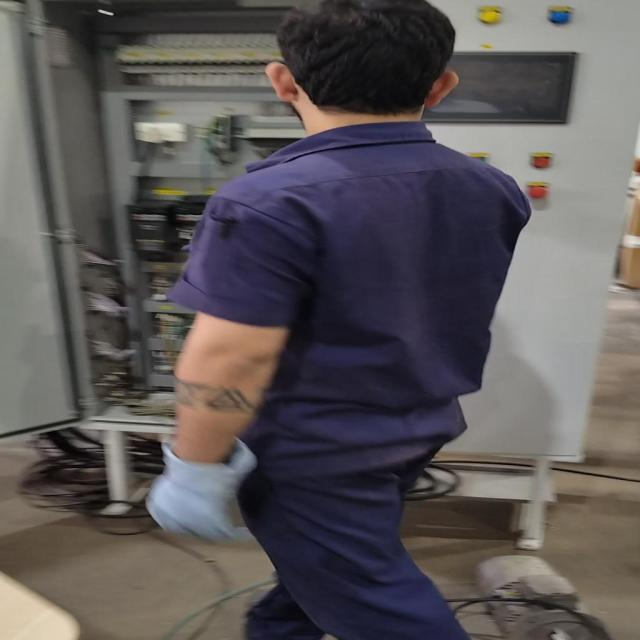Gloves-Detection: (140, 438, 261, 539)
